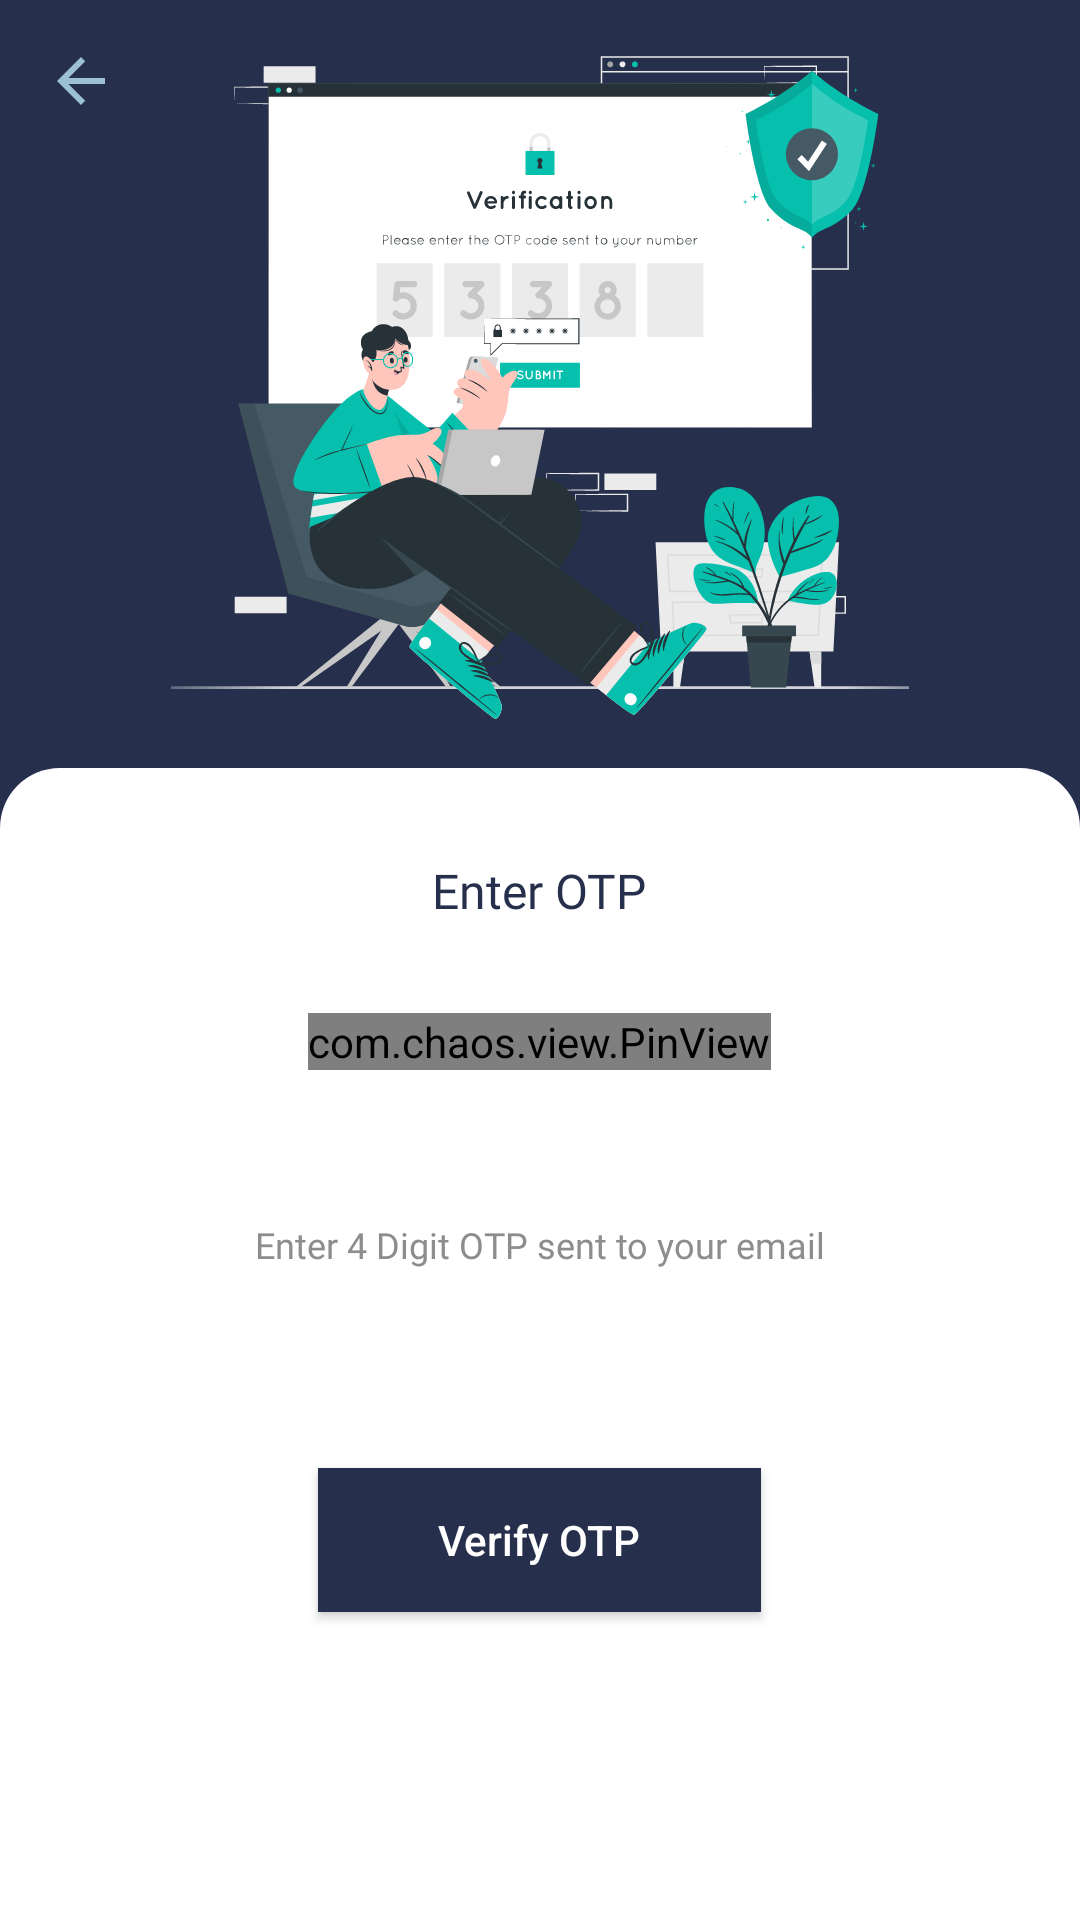

Icon click points for this 1080×1920 phone screenshot, format point (x, y):
back arrow: point (81, 81)
